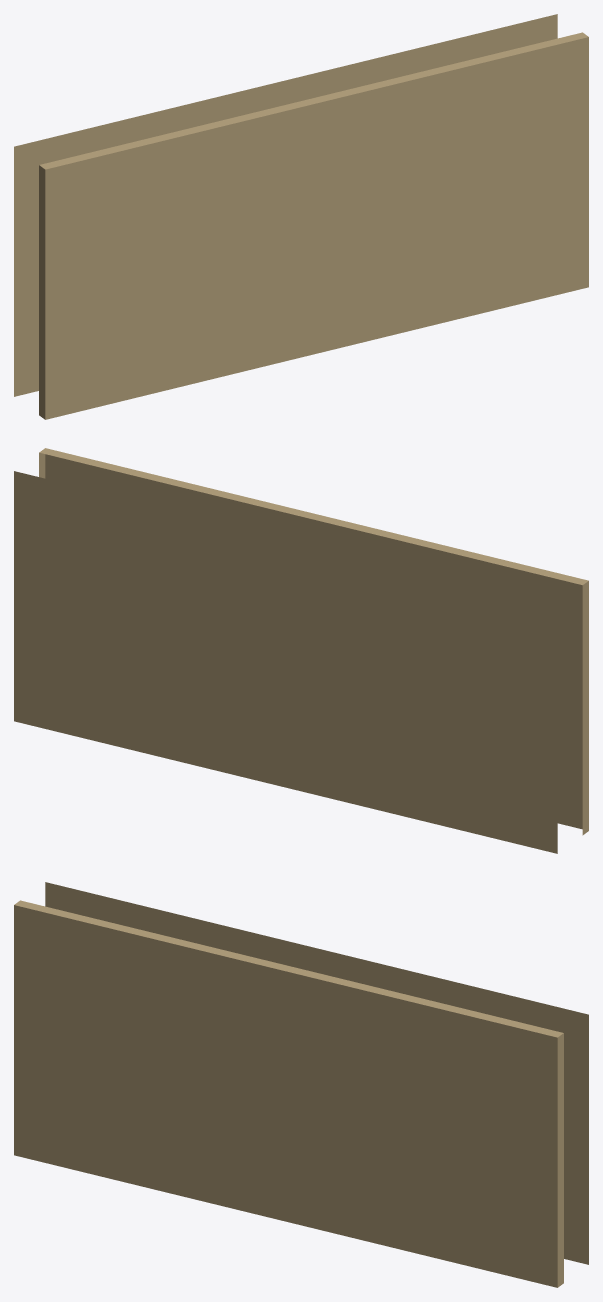
File: Basement_01_001.fbx
3 views of the same model, one above another, from view 1: azimuth 30°, elevation 25°; view 2: azimuth 150°, elevation 25°; view 3: azimuth 330°, elevation 25° (orthographic).
Visible parts, largest first — view 1: Basement_01_001; view 2: Basement_01_001; view 3: Basement_01_001.
Boxes of the visible parts, x1,y1,x2,y2 form: Basement_01_001: (14,14,588,419); Basement_01_001: (14,448,588,853); Basement_01_001: (14,882,588,1287).
Size of the model in its own units: 250 by 110 by 25.
